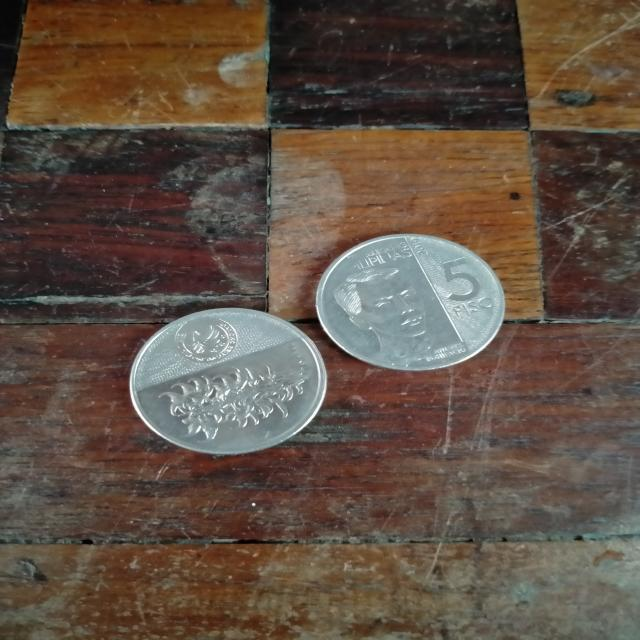5_New_Back: (143, 359, 318, 448)
5_New_Front: (428, 252, 503, 320)
